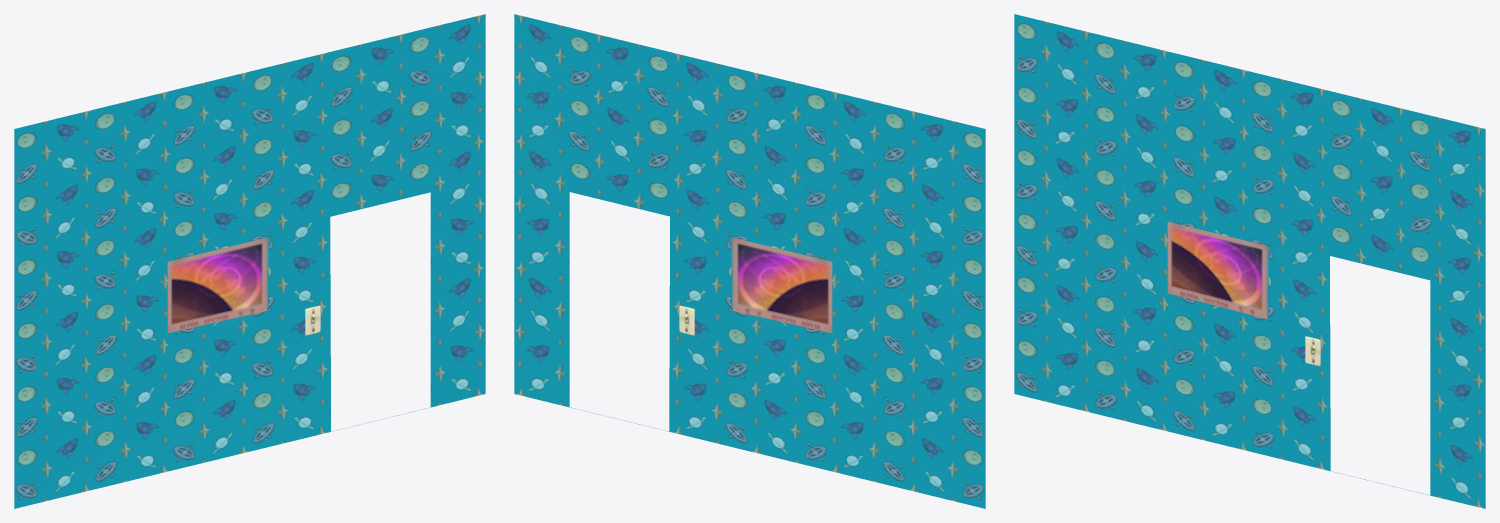
File: Jwall04.glb
3 renders of one model, left to right at view 1: azimuth 30°, elevation 25°; view 2: azimuth 150°, elevation 25°; view 3: azimuth 330°, elevation 25°, orthographic.
Visible parts, largest first — view 1: Jwall04; view 2: Jwall04; view 3: Jwall04.
Part boxes in pixels (left/top/right/bottom): Jwall04: left=14, top=14, right=485, bottom=508; Jwall04: left=514, top=14, right=985, bottom=508; Jwall04: left=1014, top=14, right=1485, bottom=508.
Bounding box in the file's own units: 1200 × 924 × 0.842.
3 materials, 3 textured.
